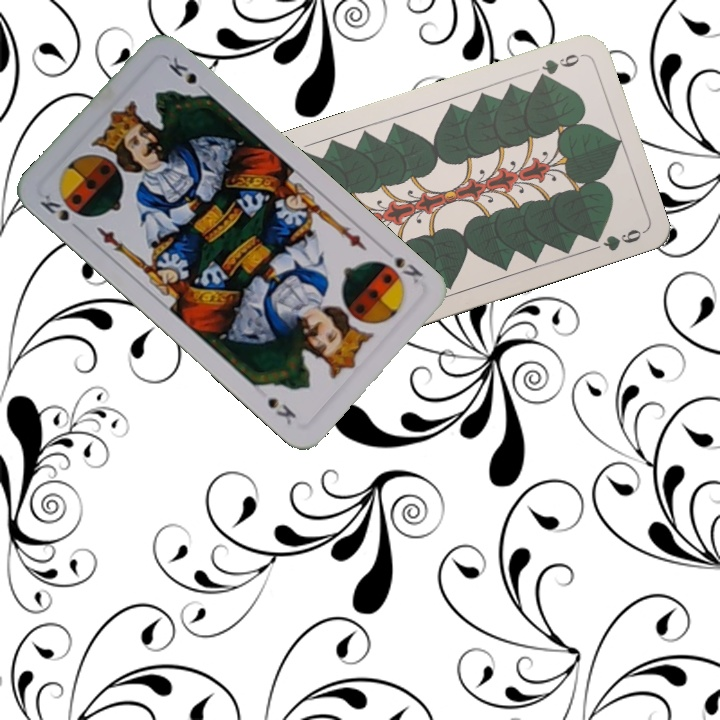G9: (533, 49, 586, 83)
SK: (35, 190, 85, 235), (389, 252, 426, 287)
